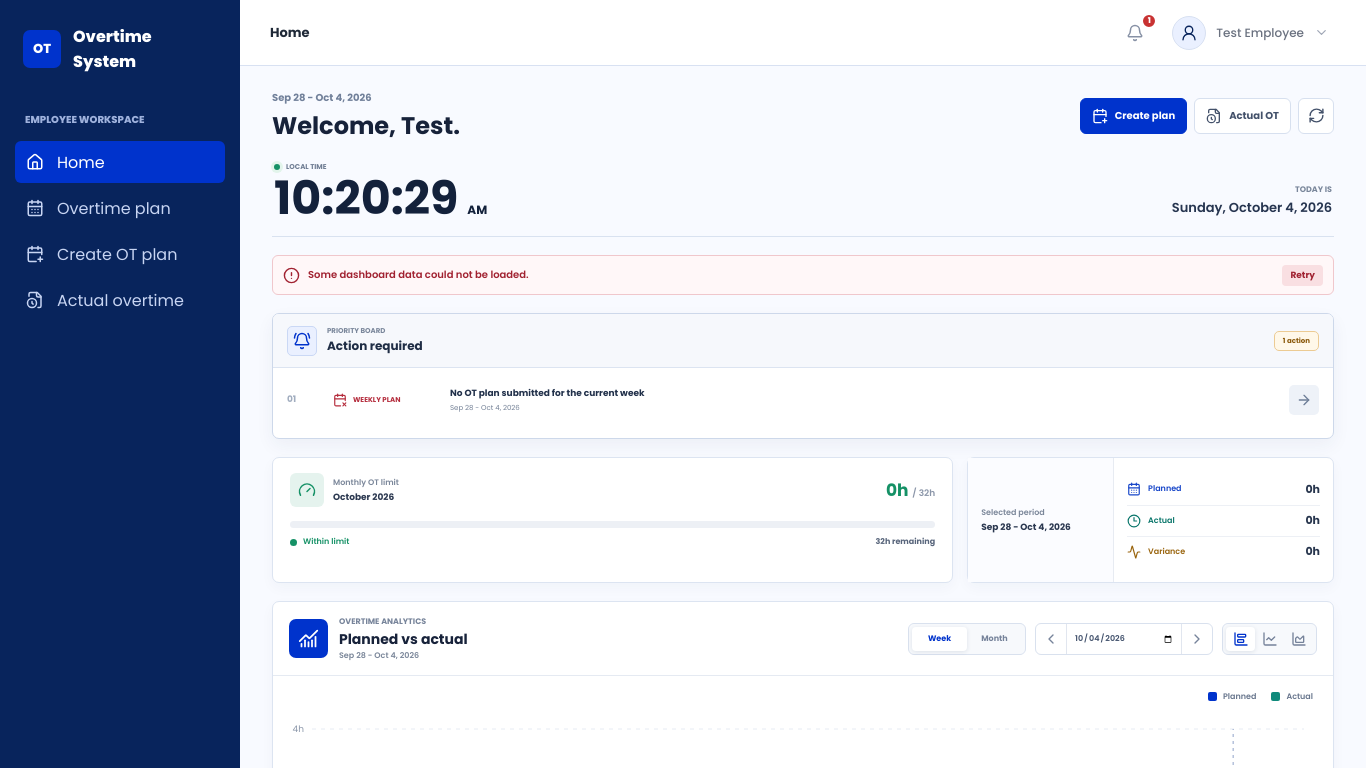
Scenario: role-based route protection › refreshes, reads, and opens an overtime plan notification
Click the button named "Notifications, 1 unread": (1135, 32) [1117, 14, 1153, 50]
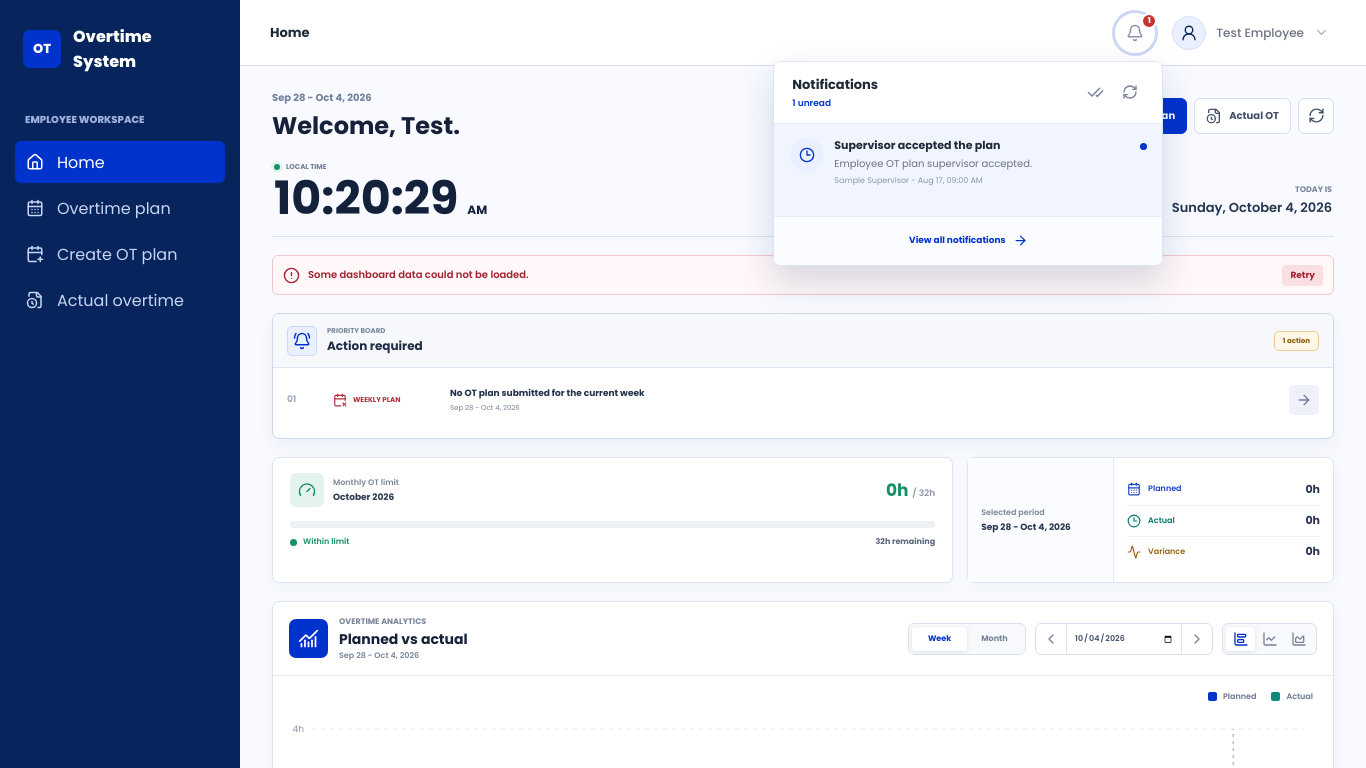
Check: the text "Supervisor accepted the plan" is shown, box [834, 136, 1000, 152]
Click the button named "Refresh notifications": (1130, 92) [1114, 76, 1146, 108]
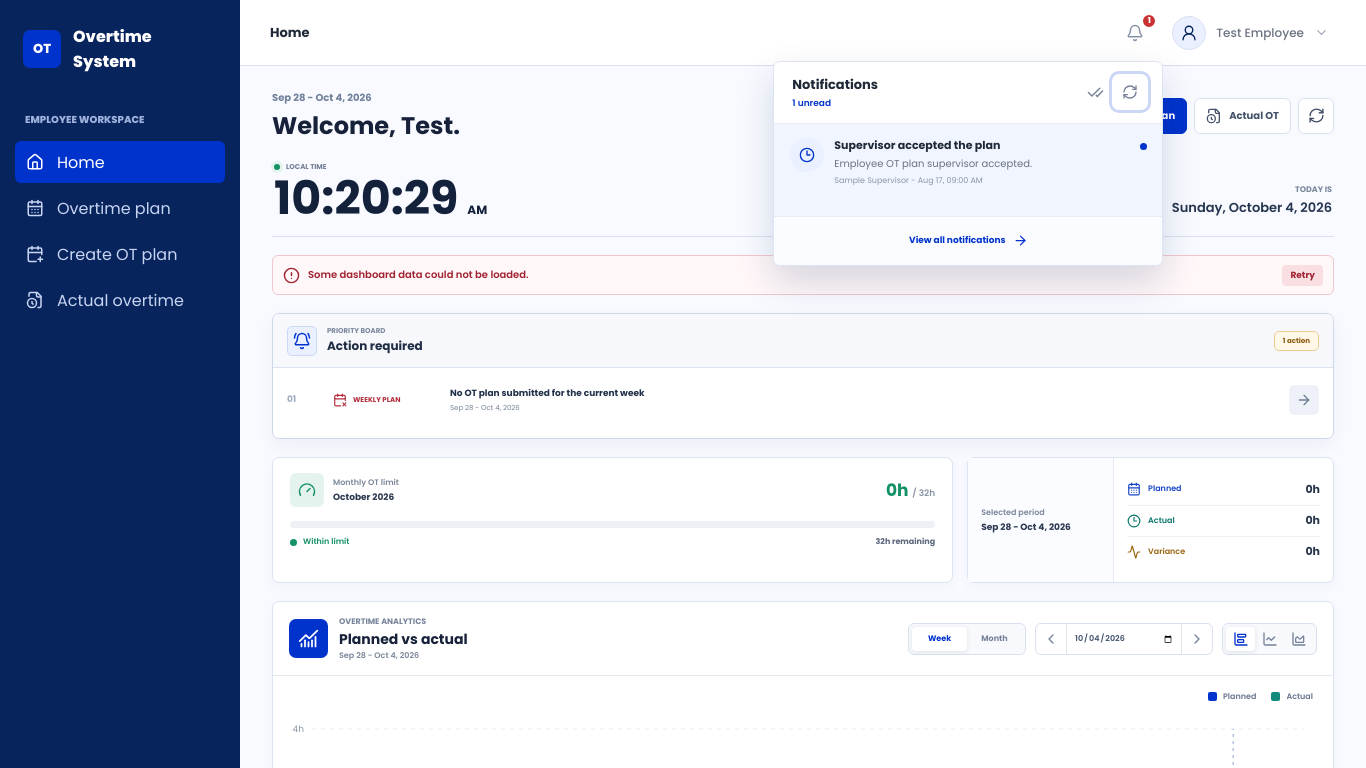
Click the button "Supervisor accepted the plan": (968, 170) [774, 124, 1162, 216]
(page scrolled)
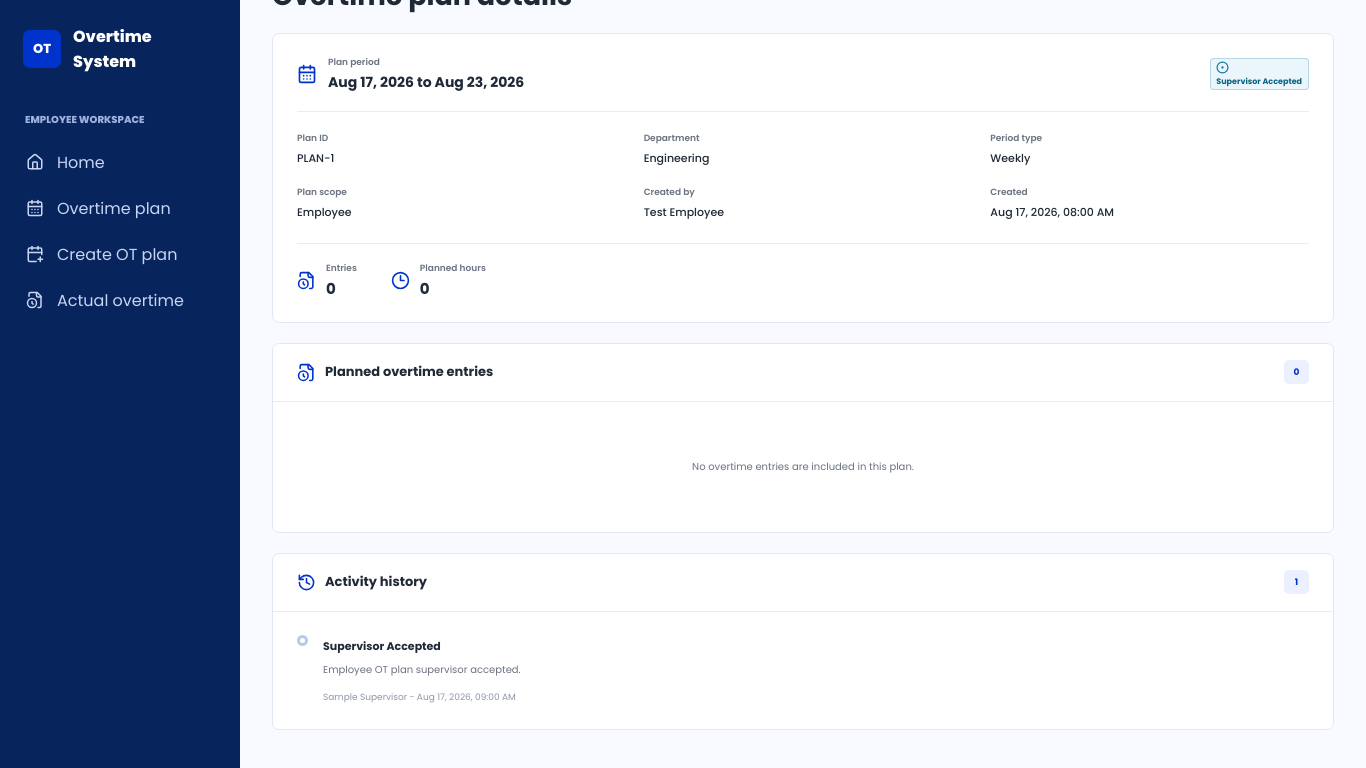
Check: the text "Employee OT plan supervisor accepted." is shown, box [323, 662, 521, 677]
Check: the heading "Activity history" is shown, box [325, 572, 427, 592]
